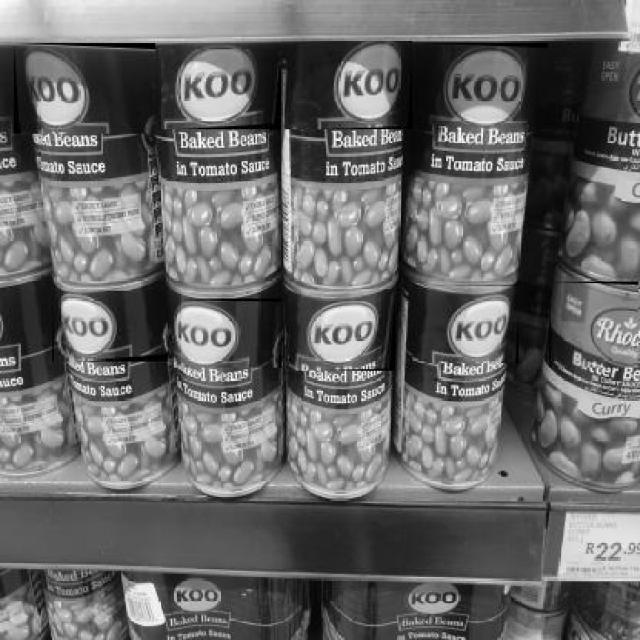Beans: (14, 43, 157, 135), (283, 40, 414, 131), (417, 44, 549, 127), (160, 49, 282, 131), (289, 290, 397, 373), (412, 284, 520, 364), (52, 291, 170, 363), (549, 282, 640, 369), (174, 298, 283, 369)
